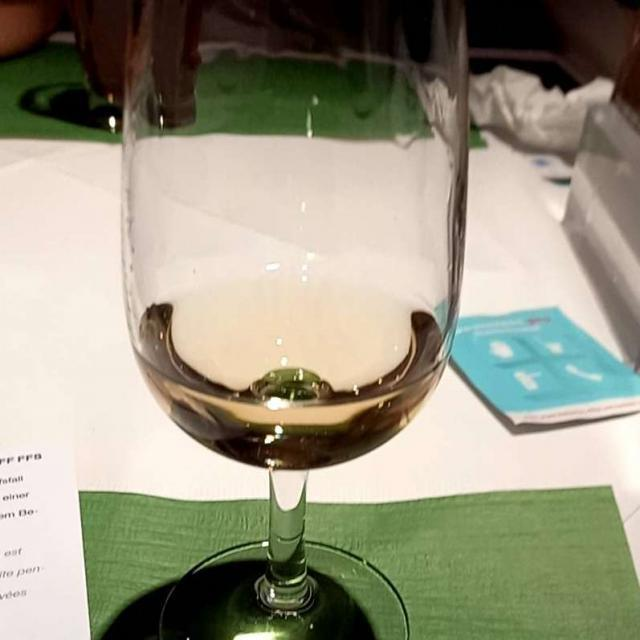wine: (120, 281, 424, 476)
